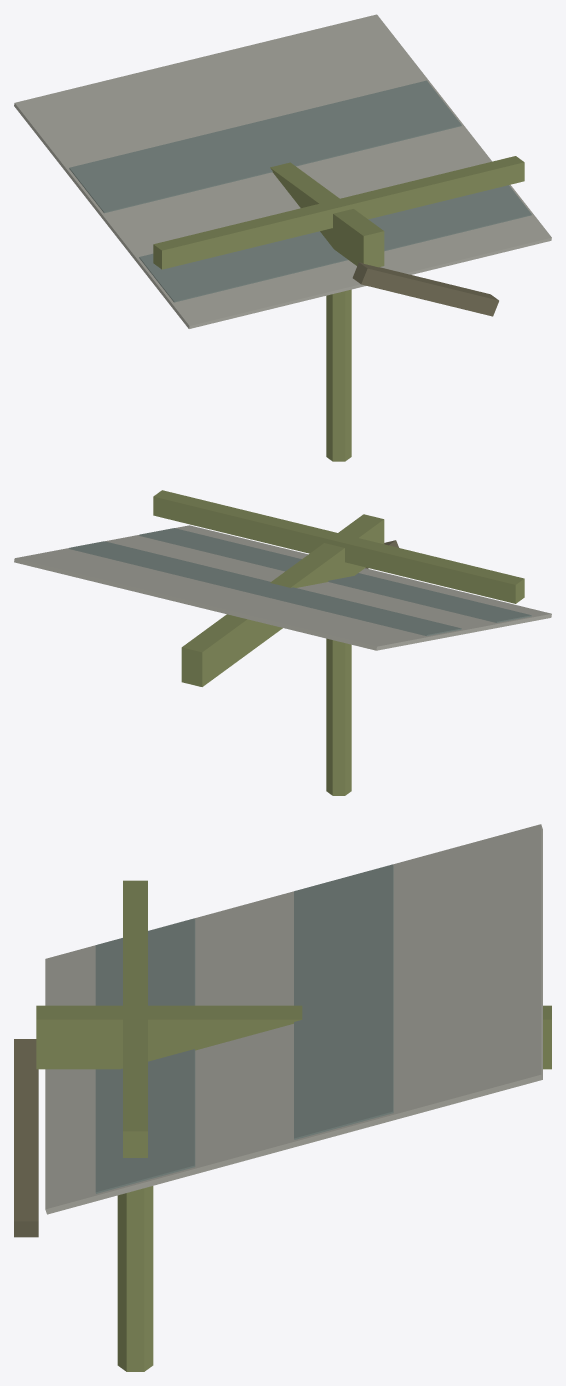
File: SM_KitMarquesina_v4_LOD1.fbx
The picture shows the model from 3 angles, top to bottom: view 1: azimuth 30°, elevation 25°; view 2: azimuth 150°, elevation 25°; view 3: azimuth 270°, elevation 25°; orthographic projection. The views are drawn at different scales.
Parts seen in each view (by area): view 1: SM_bloques.kit_marquesina_v4_LOD1; view 2: SM_bloques.kit_marquesina_v4_LOD1; view 3: SM_bloques.kit_marquesina_v4_LOD1.
Boxes of the visible parts, x1=… form: SM_bloques.kit_marquesina_v4_LOD1: x1=14, y1=14, x2=551, y2=461; SM_bloques.kit_marquesina_v4_LOD1: x1=14, y1=490, x2=551, y2=795; SM_bloques.kit_marquesina_v4_LOD1: x1=14, y1=824, x2=551, y2=1371.
Bounding box in the file's own units: 5.98 × 4.63 × 5.43.
